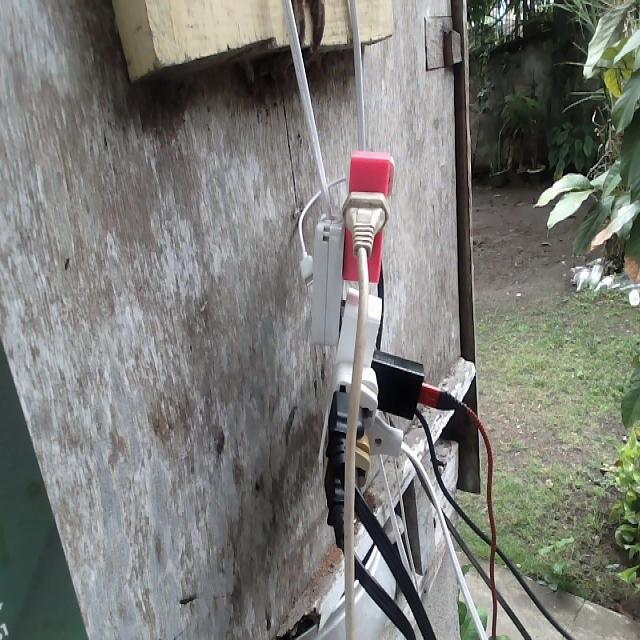-: (307, 140, 472, 519)
